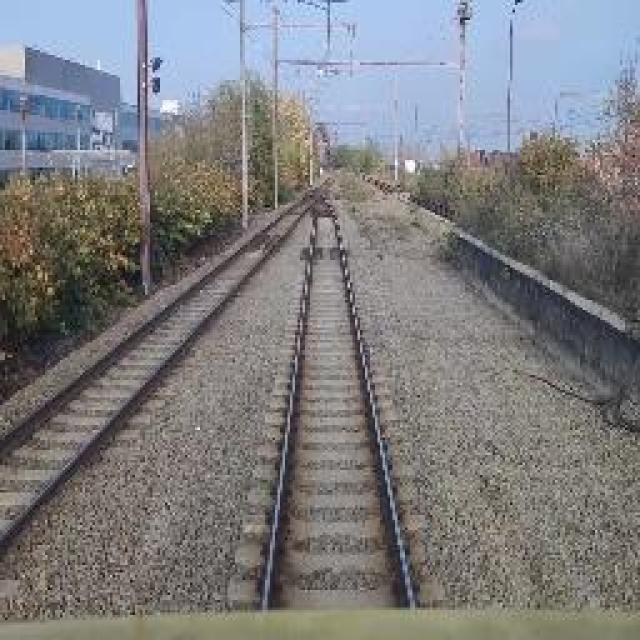rail: (0, 171, 339, 596), (225, 188, 459, 618)
